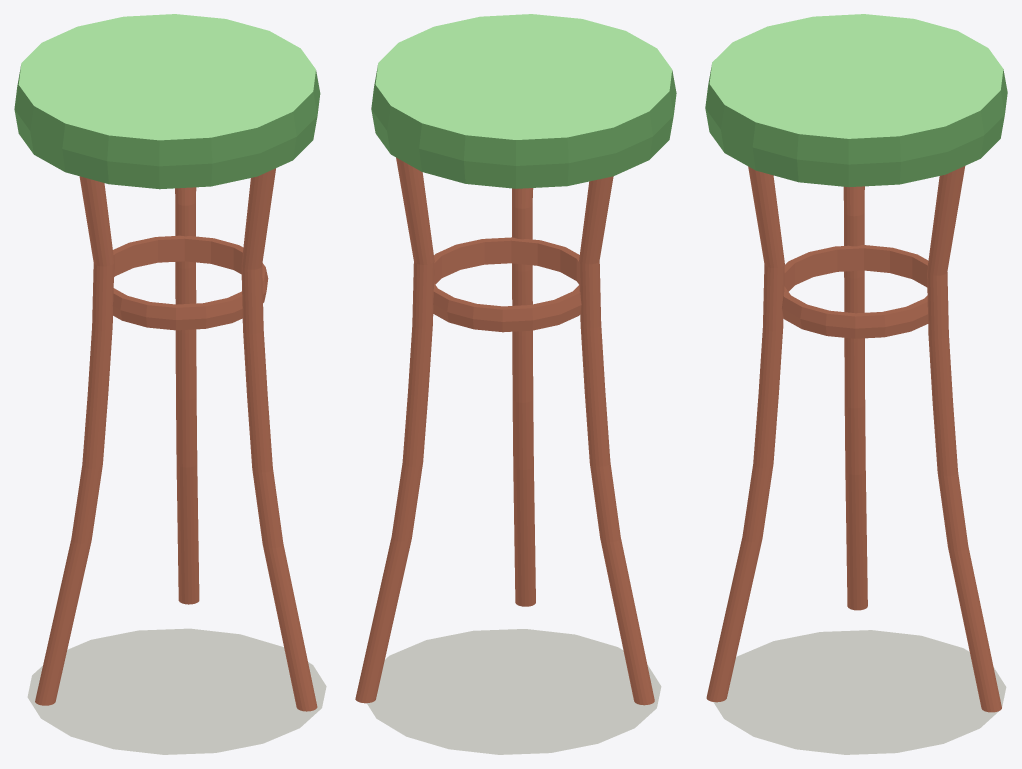
File: Candy_Chair.glb
The picture shows the model from 3 angles, left to right: view 1: azimuth 30°, elevation 25°; view 2: azimuth 150°, elevation 25°; view 3: azimuth 270°, elevation 25°; orthographic projection.
Visible parts, largest first — view 1: Candy_Chair, Chair_Shadow; view 2: Candy_Chair, Chair_Shadow; view 3: Candy_Chair, Chair_Shadow.
Boxes of the visible parts, x1=… form: Candy_Chair: x1=14, y1=14, x2=320, y2=711; Chair_Shadow: x1=28, y1=629, x2=326, y2=754; Candy_Chair: x1=355, y1=14, x2=676, y2=705; Chair_Shadow: x1=367, y1=629, x2=660, y2=754; Candy_Chair: x1=705, y1=14, x2=1007, y2=712; Chair_Shadow: x1=714, y1=630, x2=1005, y2=754.
Size of the model in its own units: 0.9246 by 2 by 0.8958.
2 materials, 2 textured.
